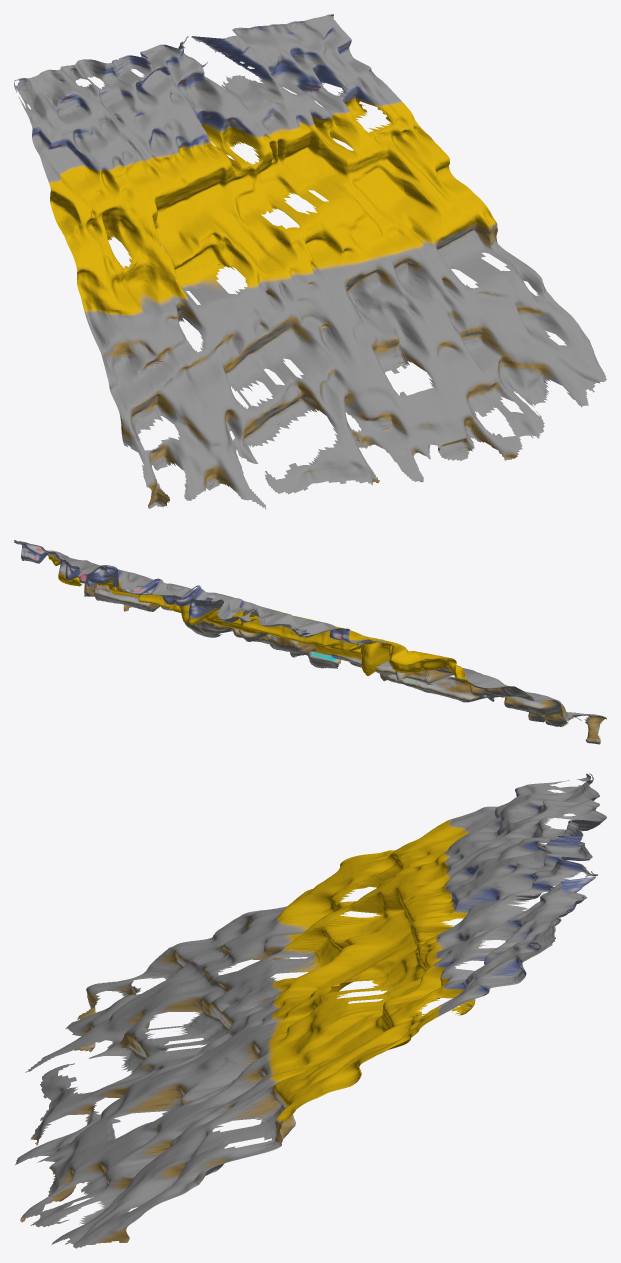
The model's file is segmented.glb.
3 renders of one model, top to bottom at view 1: azimuth 30°, elevation 25°; view 2: azimuth 150°, elevation 25°; view 3: azimuth 270°, elevation 25°, orthographic. The views are drawn at different scales.
Visible parts, largest first — view 1: geometry_0; view 2: geometry_0; view 3: geometry_0.
Boxes of the visible parts, bbox=[...] form: geometry_0: bbox=[14, 14, 606, 509]; geometry_0: bbox=[14, 539, 606, 744]; geometry_0: bbox=[15, 773, 606, 1248].
Size of the model in its own units: 0.5431 by 0.3 by 0.5201.
